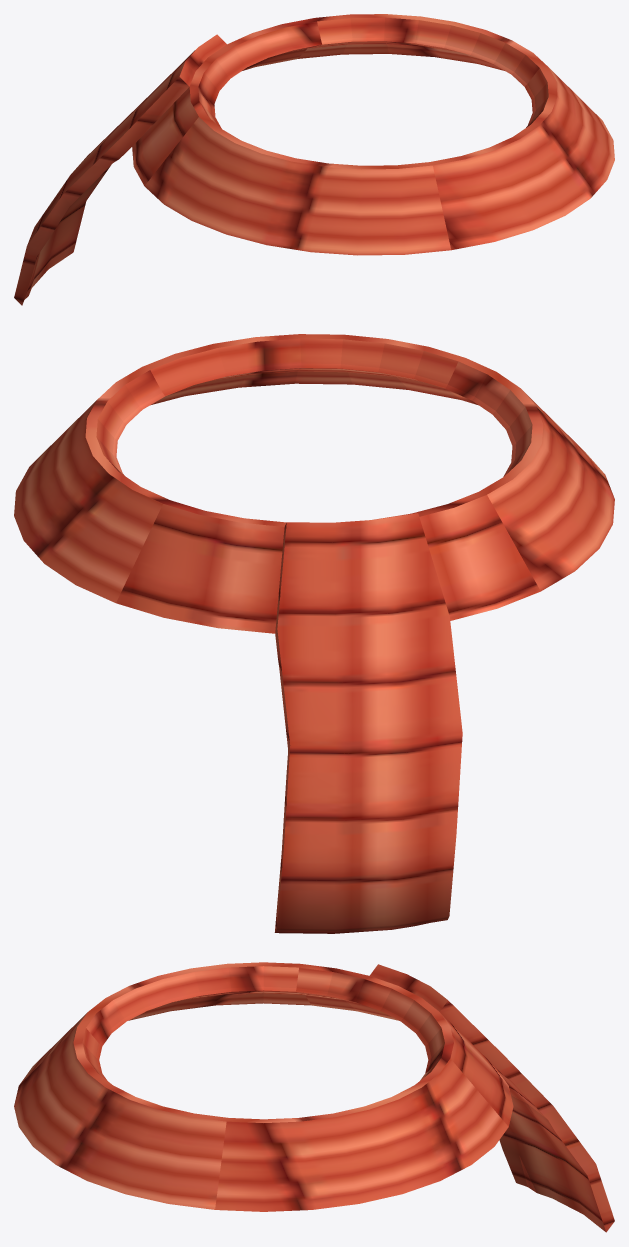
File: item-frostys-scarf.glb
3 renders of one model, top to bottom at view 1: azimuth 30°, elevation 25°; view 2: azimuth 150°, elevation 25°; view 3: azimuth 270°, elevation 25°, orthographic. The views are drawn at different scales.
Bounding box in the file's own units: 0.2606 × 0.1447 × 0.2963.
1 material, 1 textured.
